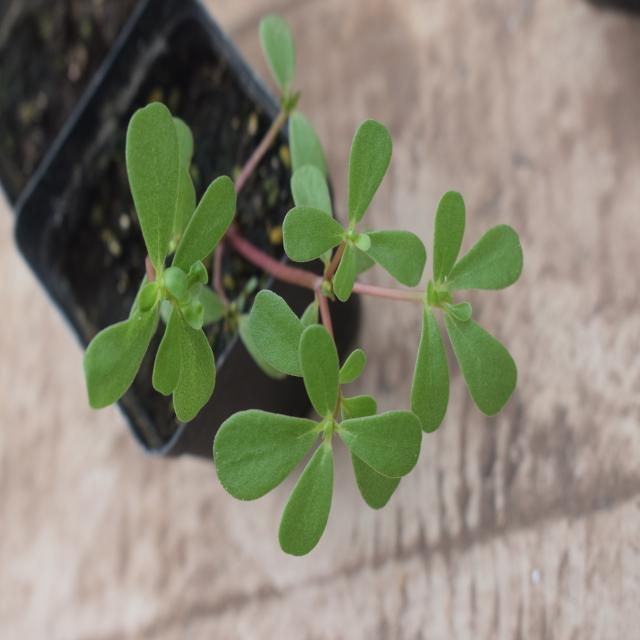purslane: (81, 83, 519, 555)
